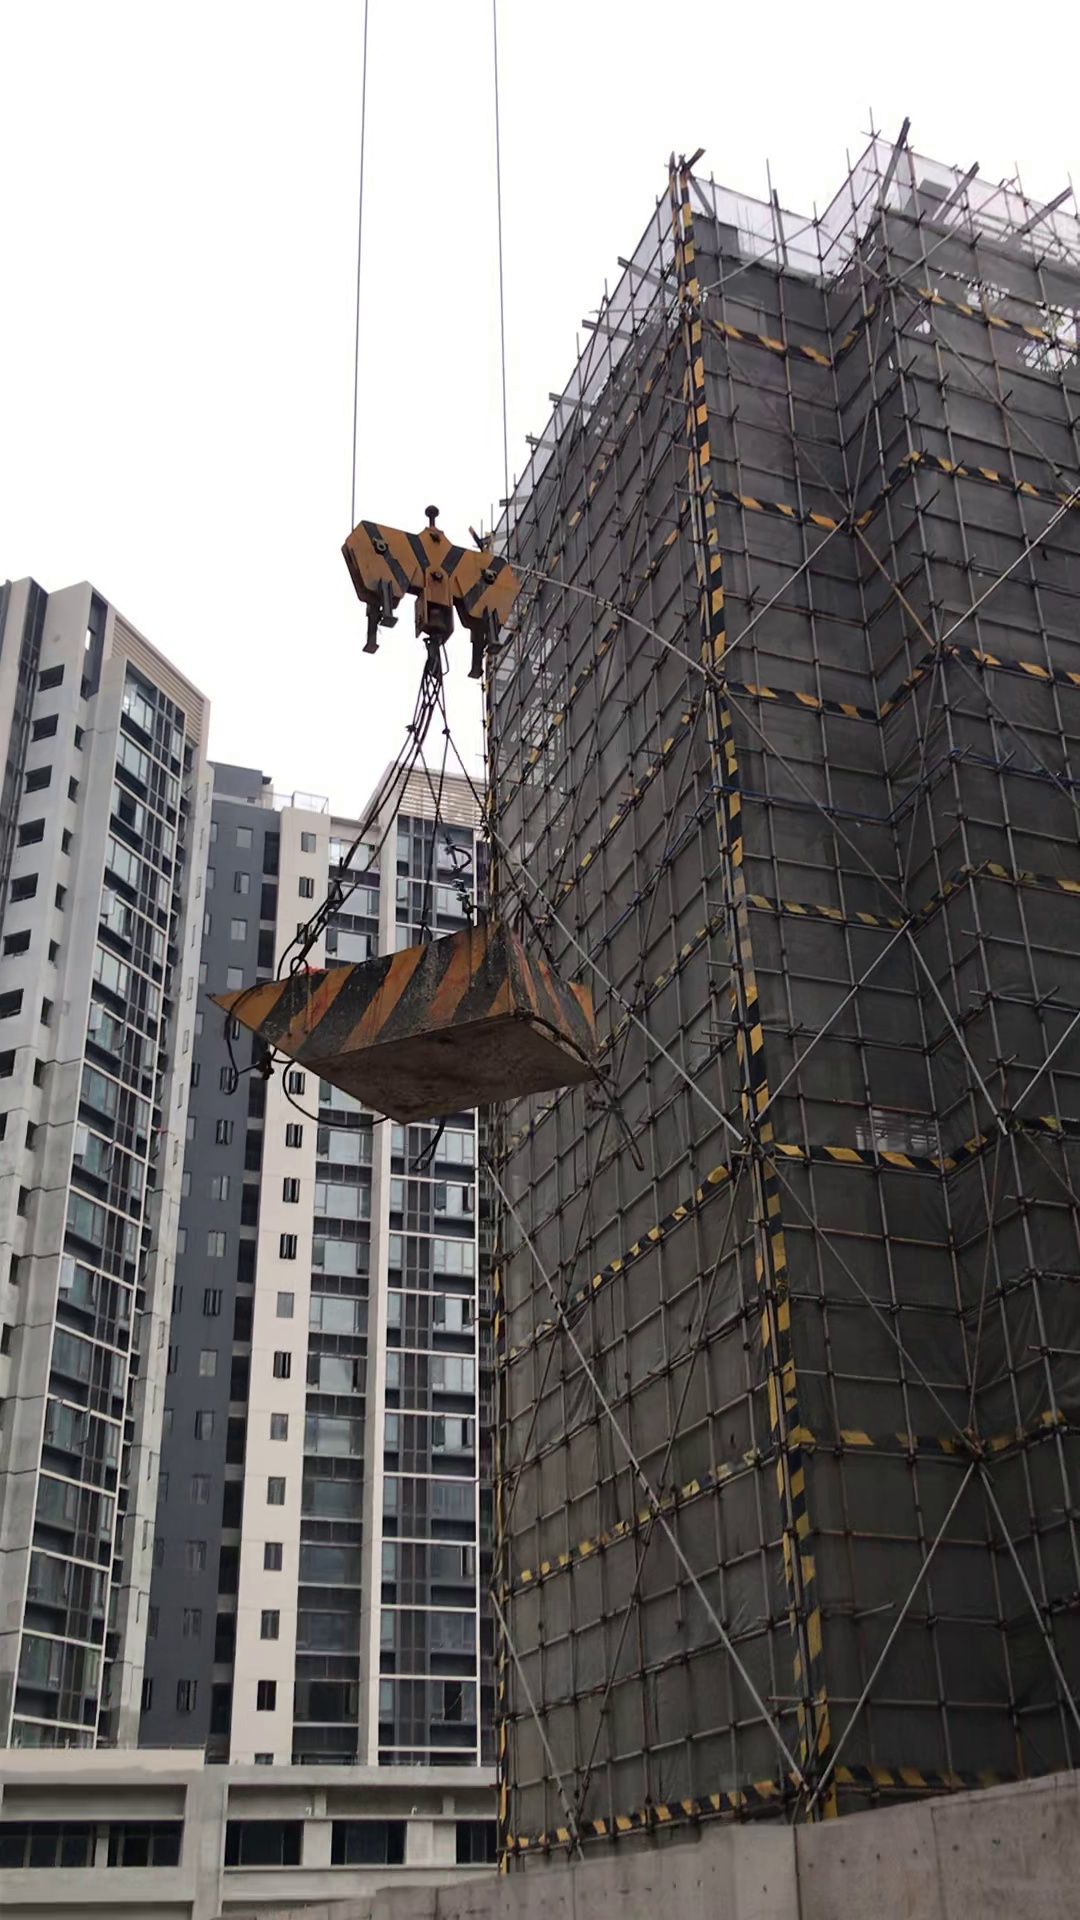hook: (342, 498, 517, 669)
